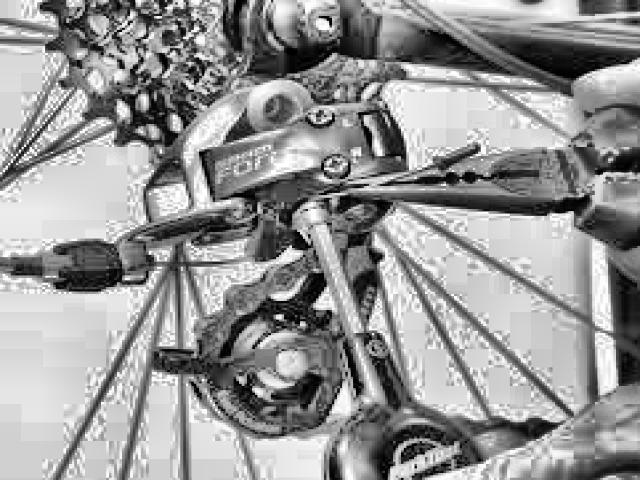rear_derailleur: (36, 79, 416, 442)
